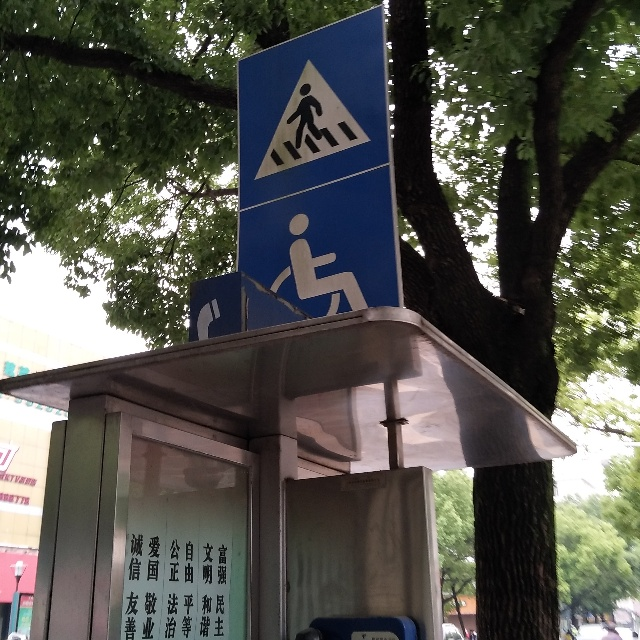crosswalk: (234, 5, 401, 209)
